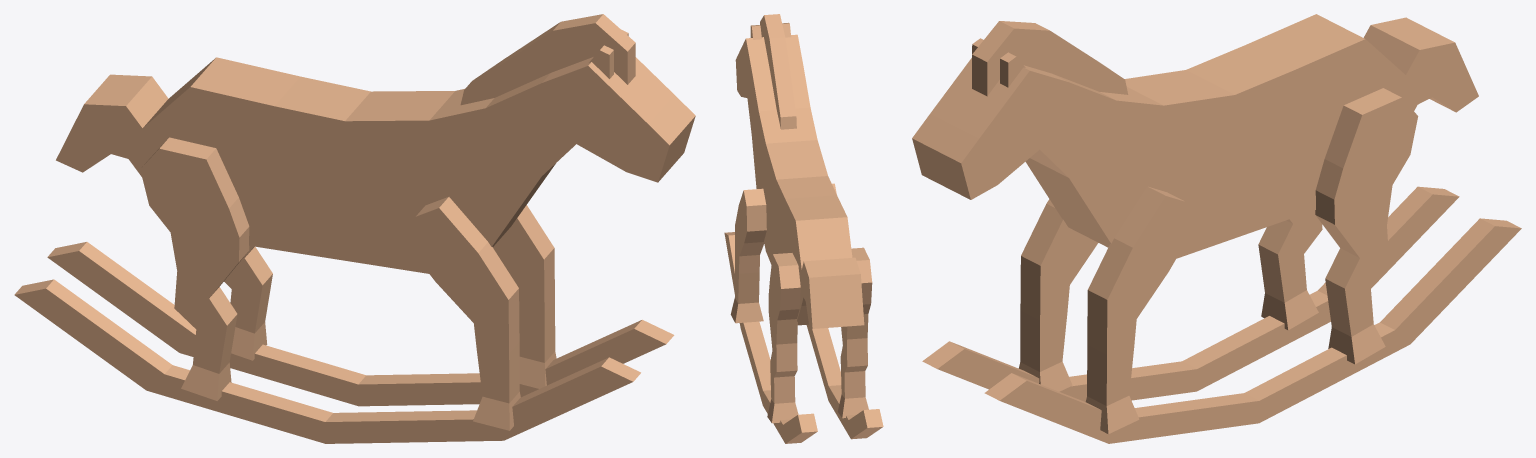
The model's file is rockingHorse.fbx.
3 views of the same model, side by side, from view 1: azimuth 30°, elevation 25°; view 2: azimuth 150°, elevation 25°; view 3: azimuth 270°, elevation 25° (orthographic). The views are drawn at different scales.
Visible parts, largest first — view 1: Cylinder.002; view 2: Cylinder.002; view 3: Cylinder.002.
Boxes of the visible parts, <box> form: Cylinder.002: <box>14,14,695,443</box>; Cylinder.002: <box>724,14,883,443</box>; Cylinder.002: <box>912,14,1521,443</box>.
Bounding box in the file's own units: 339 × 320 × 390.
